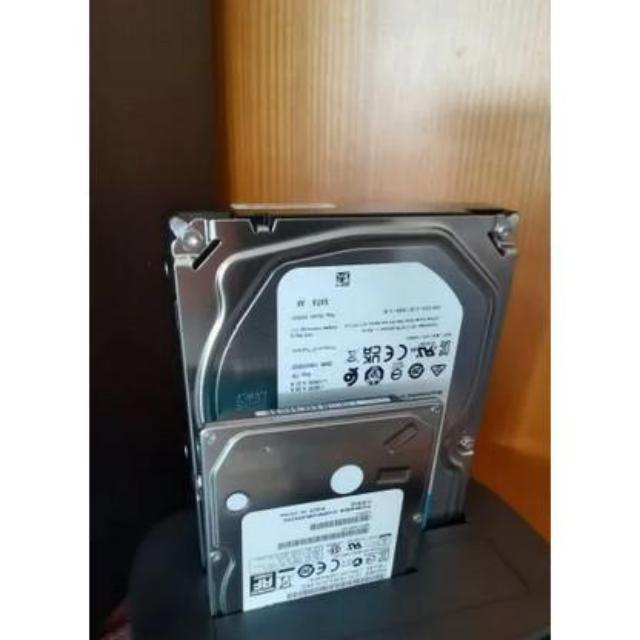DISK: (152, 198, 536, 613)
